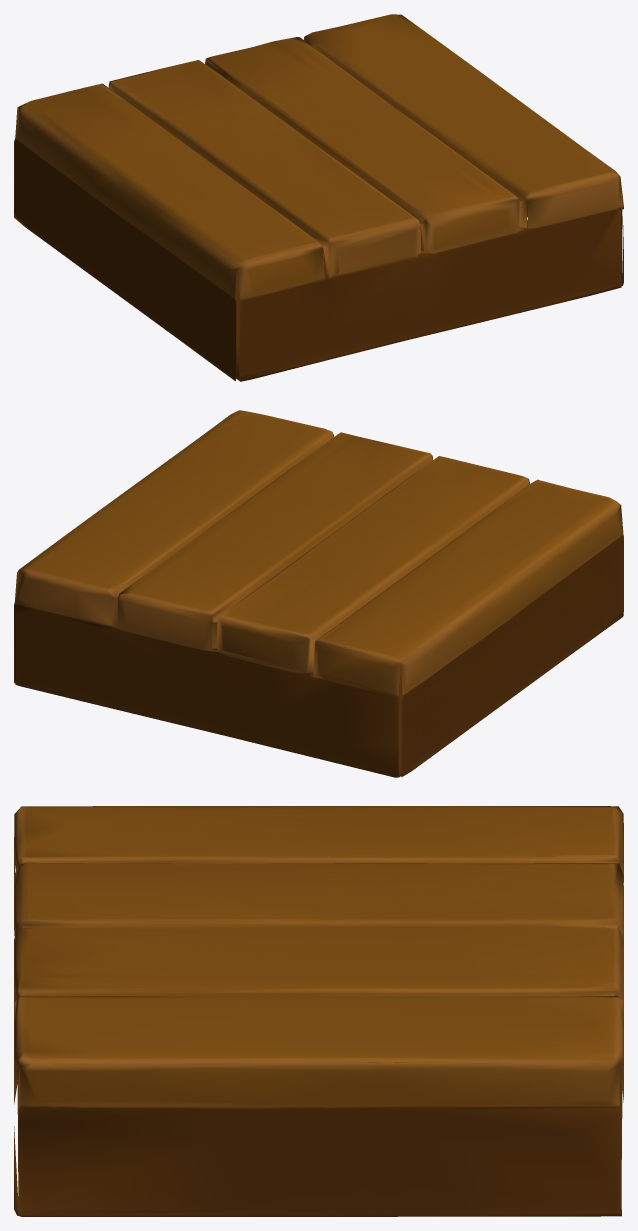
File: wooden-planks-flat-sides.glb
The picture shows the model from 3 angles, top to bottom: view 1: azimuth 30°, elevation 25°; view 2: azimuth 150°, elevation 25°; view 3: azimuth 270°, elevation 25°; orthographic projection. The views are drawn at different scales.
Visible parts, largest first — view 1: WoodenPlanksFlatSides; view 2: WoodenPlanksFlatSides; view 3: WoodenPlanksFlatSides.
Boxes of the visible parts, x1,y1,x2,y2 form: WoodenPlanksFlatSides: (14, 14, 623, 381); WoodenPlanksFlatSides: (14, 410, 623, 777); WoodenPlanksFlatSides: (14, 806, 623, 1216).
Bounding box in the file's own units: 1 × 0.2917 × 0.9999.
1 material, 1 textured.
